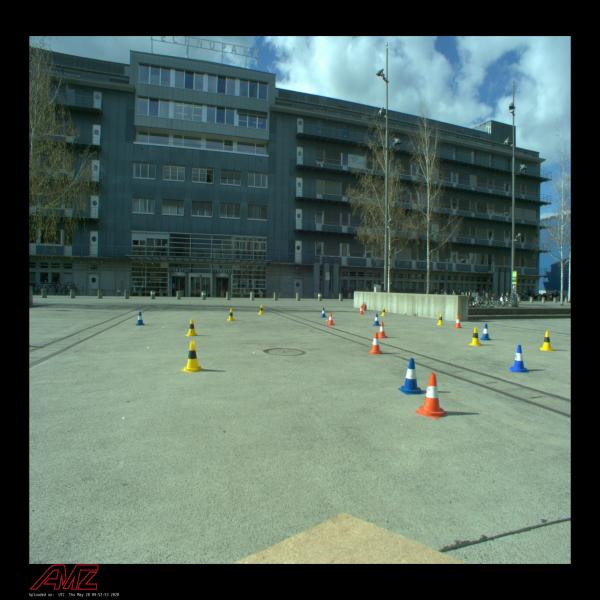blue_cone: (398, 358, 425, 395), (509, 345, 528, 373), (479, 324, 491, 340), (136, 312, 145, 326), (373, 314, 382, 326), (320, 308, 327, 318)
orange_cone: (416, 372, 447, 419), (368, 332, 383, 355), (376, 321, 388, 339), (326, 312, 335, 326), (454, 315, 462, 328), (359, 306, 364, 315)
yellow_cone: (181, 341, 204, 373), (540, 331, 554, 352), (468, 327, 482, 346), (186, 318, 198, 336), (227, 309, 235, 321), (436, 314, 444, 326), (380, 306, 387, 316), (258, 305, 264, 315)
